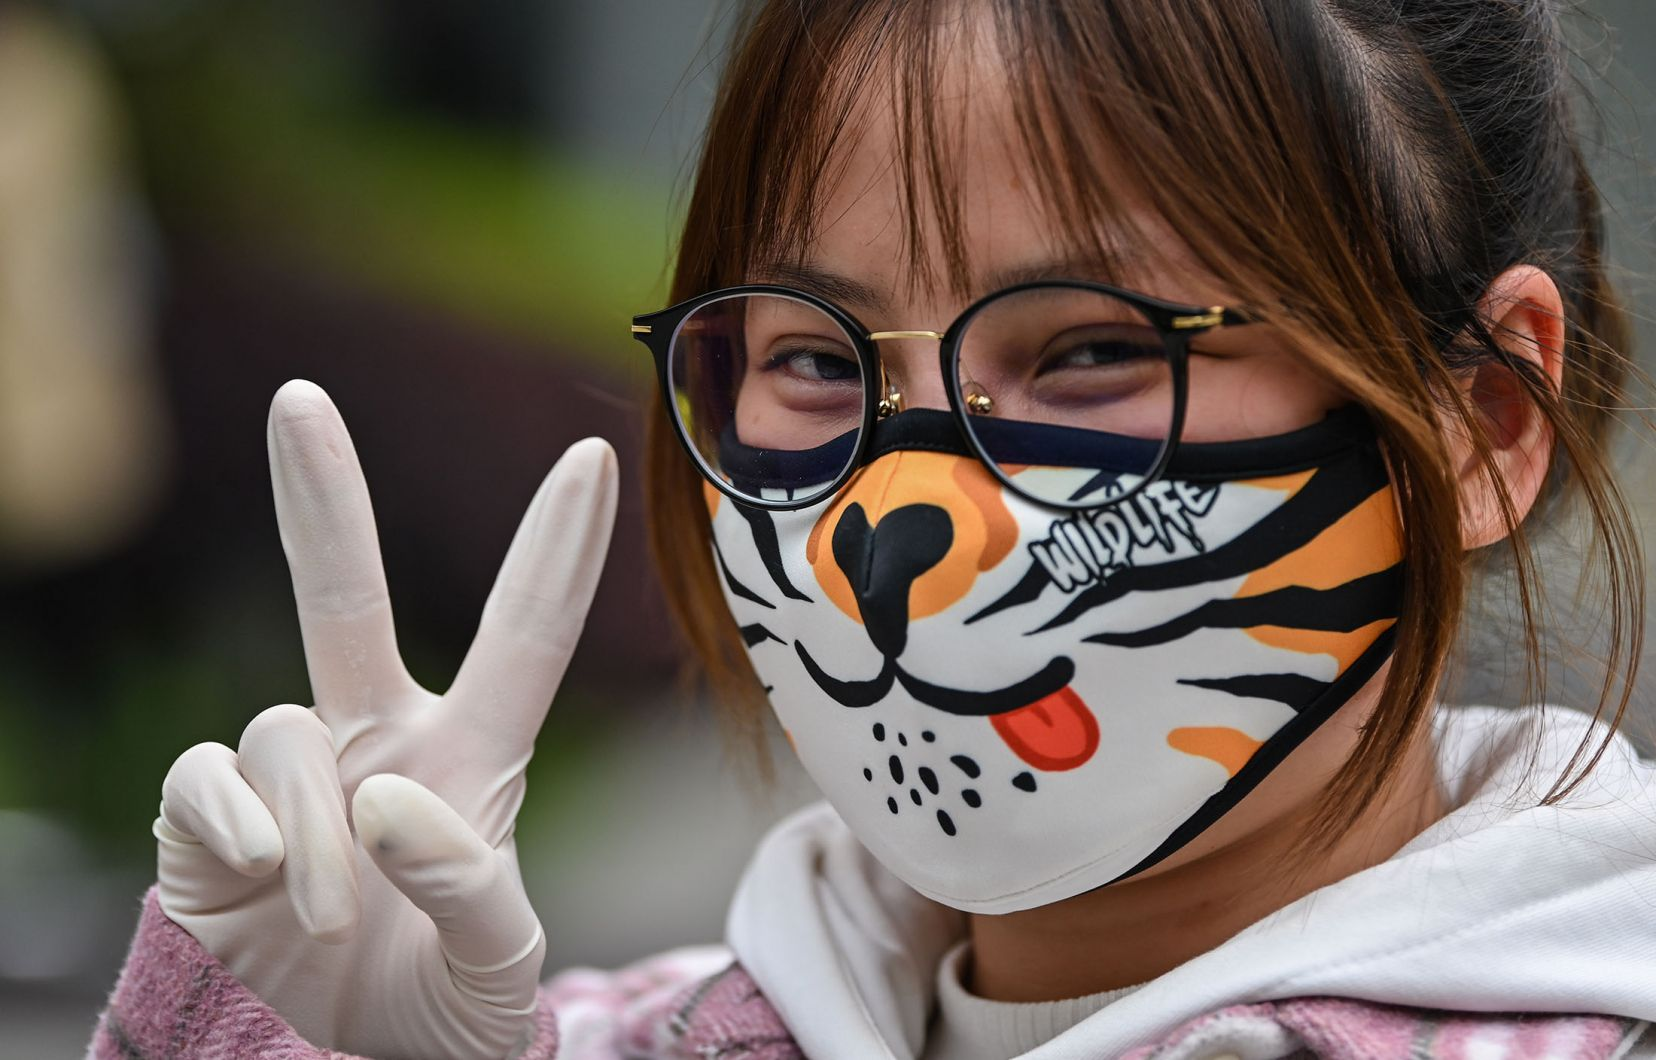with_mask: (668, 215, 1456, 927)
